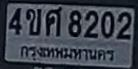0: (100, 10, 113, 37)
2: (116, 11, 130, 38), (84, 10, 98, 37)
4: (8, 7, 20, 34)
8: (68, 9, 80, 36)
A02: (25, 8, 40, 35)
A38: (45, 6, 62, 37)
BKK: (17, 42, 117, 65)
